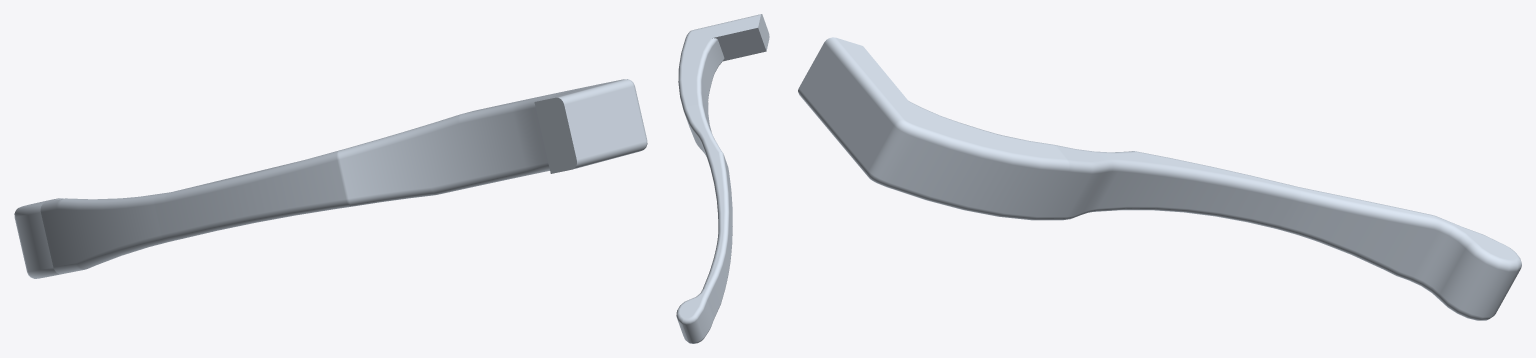
File: RB-013_viewer.glb
3 views of the same model, side by side, from view 1: azimuth 30°, elevation 25°; view 2: azimuth 150°, elevation 25°; view 3: azimuth 270°, elevation 25° (orthographic). The views are drawn at different scales.
Visible parts, largest first — view 1: basebody_imported1; view 2: basebody_imported1; view 3: basebody_imported1.
Part boxes in pixels (x1,y1,x2,y2): basebody_imported1: [14, 79, 647, 278]; basebody_imported1: [676, 14, 769, 343]; basebody_imported1: [798, 37, 1521, 320].
Size of the model in its own units: 0.00624 by 0.00695 by 0.0122.
